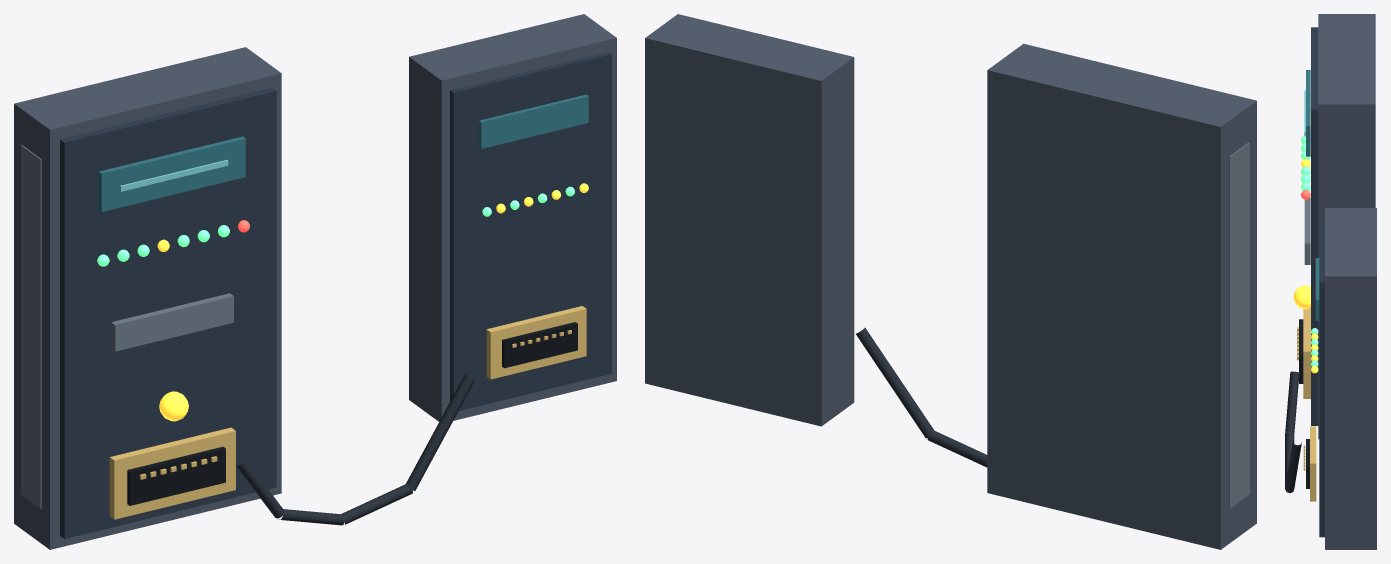
File: lan-tester.glb
3 renders of one model, left to right at view 1: azimuth 30°, elevation 25°; view 2: azimuth 150°, elevation 25°; view 3: azimuth 270°, elevation 25°, orthographic. The views are drawn at different scales.
Parts seen in each view (by area): view 1: LAN Tester and Remote Unit; view 2: LAN Tester and Remote Unit; view 3: LAN Tester and Remote Unit.
Boxes of the visible parts, box(x1,y1,x2,y2) form: LAN Tester and Remote Unit: box(14, 14, 616, 549); LAN Tester and Remote Unit: box(645, 14, 1256, 549); LAN Tester and Remote Unit: box(1285, 14, 1376, 549).
Size of the model in its own units: 2.02 by 1.52 by 0.353.
